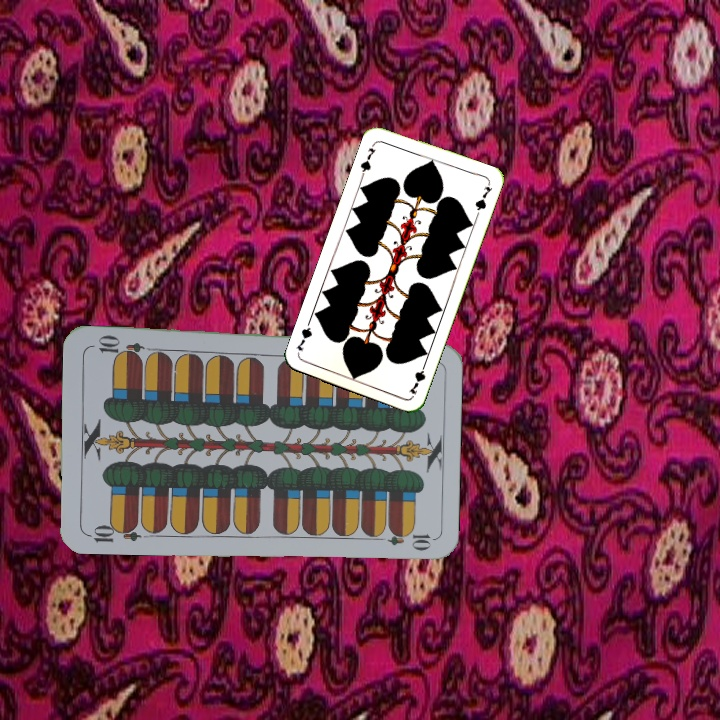E10: (83, 519, 142, 545)
G7: (405, 358, 429, 397), (356, 139, 378, 178)
